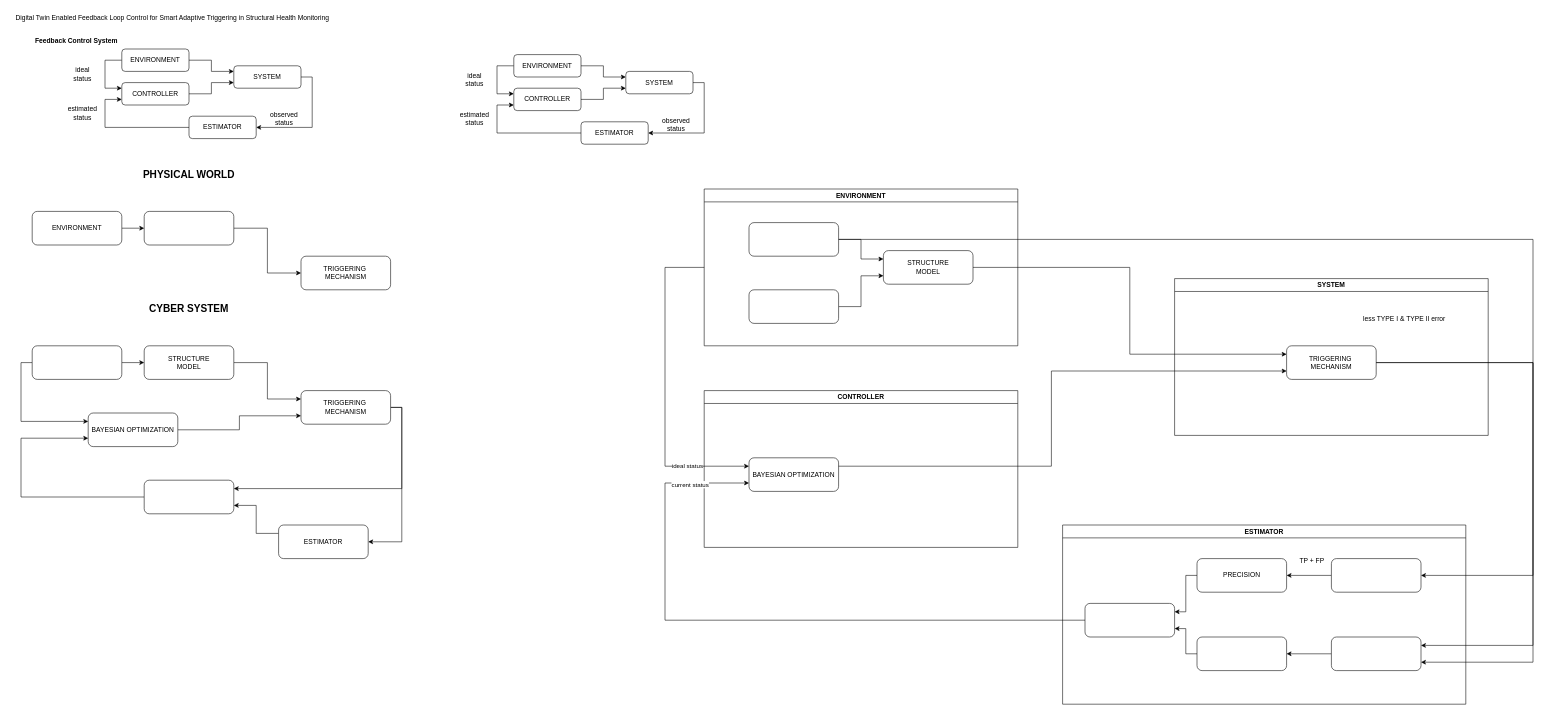
The diagram is 1547 pixels wide and 714 high, and some of its shapes have lost their labels. Here are the shapes that lost their labels. From the top down, the centre of each, then its label:
At pixel 189 228: "STRUCTURE".
At pixel 793 239: "AMBIENT VIBRATION".
At pixel 793 306: "EXCITATION".
At pixel 77 362: "ENVIRONMENT MODEL".
At pixel 189 497: "EVALUATOR".
At pixel 1376 575: "CLASSIFIER - CNN".
At pixel 1129 620: "F-BETA".
At pixel 1241 653: "RECALL".
At pixel 1376 653: "ESTIMATOR - DNN".
